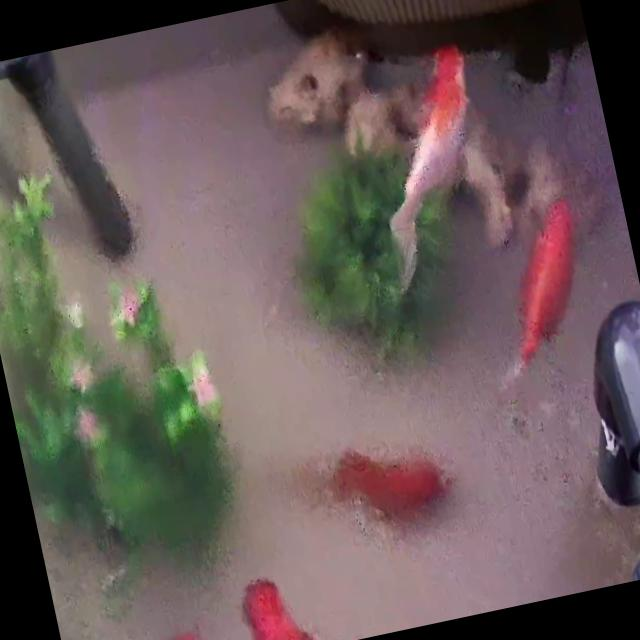fish: (354, 42, 509, 294), (481, 194, 602, 368), (338, 433, 445, 532), (236, 557, 355, 640)
